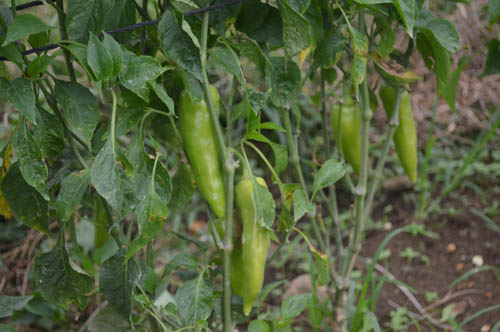ChiliPepper: (232, 181, 274, 311), (181, 87, 223, 213), (385, 88, 419, 179), (333, 105, 365, 172)
